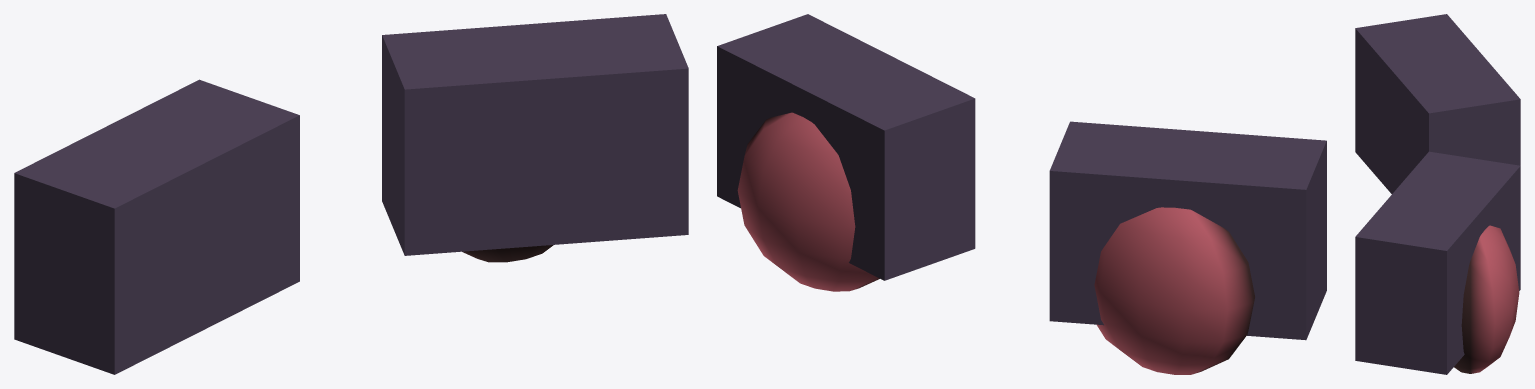
File: eyes_angry.glb
3 renders of one model, left to right at view 1: azimuth 30°, elevation 25°; view 2: azimuth 150°, elevation 25°; view 3: azimuth 270°, elevation 25°, orthographic. The views are drawn at different scales.
Parts seen in each view (by area): view 1: angry_R, angry_L, Sphere.001; view 2: angry_R, angry_L, Sphere, Sphere.001; view 3: angry_R, angry_L, Sphere.001.
Part boxes in pixels (x1,y1,x2,y2): angry_R: (382, 14, 688, 255); angry_L: (14, 79, 299, 374); Sphere.001: (462, 245, 553, 262); angry_R: (717, 14, 975, 280); angry_L: (1049, 121, 1326, 340); Sphere: (1094, 207, 1254, 374); Sphere.001: (737, 112, 879, 291); angry_R: (1355, 151, 1520, 374); angry_L: (1355, 14, 1520, 193); Sphere.001: (1454, 225, 1519, 373).
Size of the model in its own units: 0.3446 by 0.112 by 0.1016.
